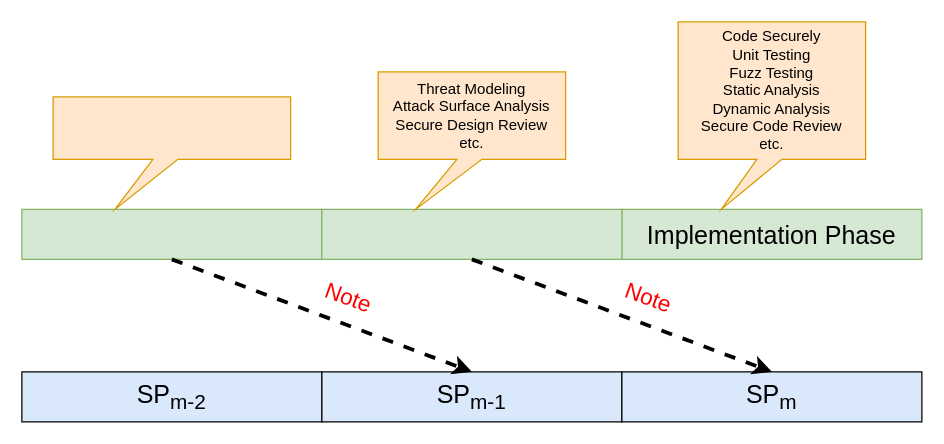
Image size: 944x444. Some labels were removed from this diagram. Each missing label, with the centre of its shape:
Design Phase: the point at 471,233
Detailed Security Requirements etc.: the point at 171,152
Requirements Phase: the point at 171,233
